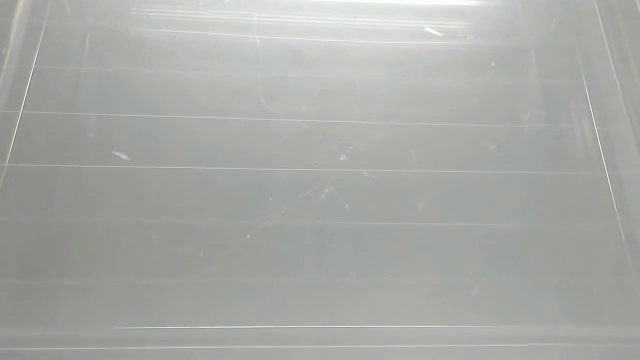alpha: (108, 145, 135, 165), (423, 23, 445, 41)
